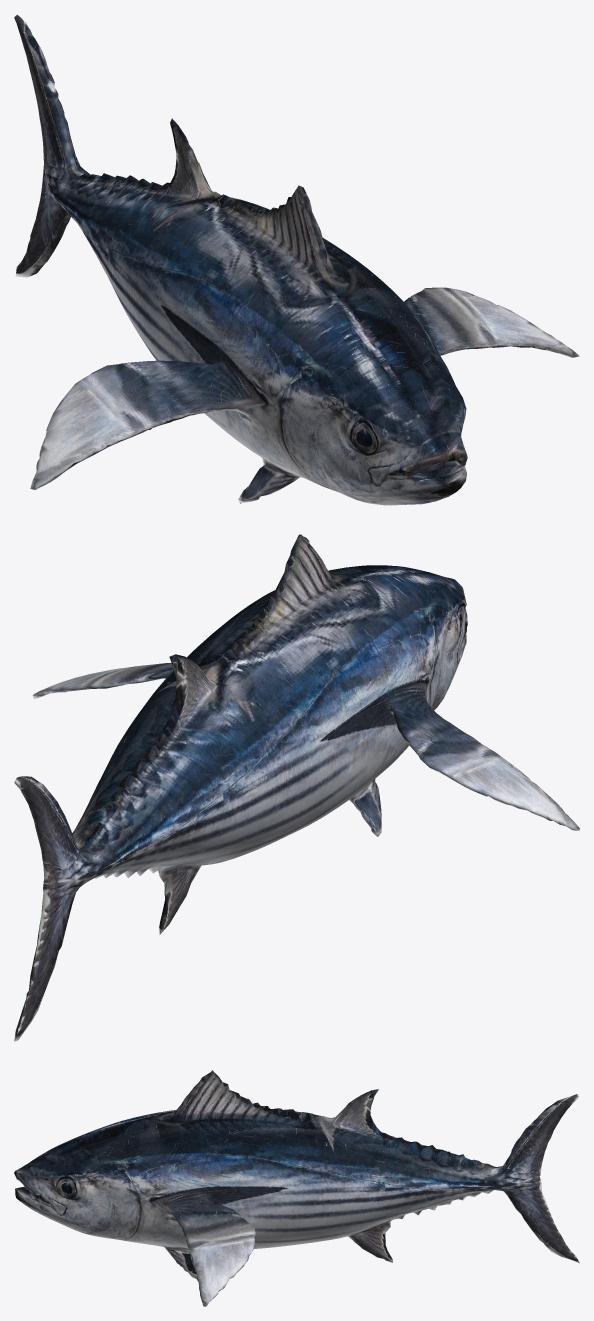
File: fish_skipjack.glb
3 views of the same model, one above another, from view 1: azimuth 30°, elevation 25°; view 2: azimuth 150°, elevation 25°; view 3: azimuth 270°, elevation 25° (orthographic). The views are drawn at different scales.
Parts seen in each view (by area): view 1: geometry_0; view 2: geometry_0; view 3: geometry_0.
Boxes of the visible parts, box(x1,y1,x2,y2) form: geometry_0: box(14, 14, 579, 505); geometry_0: box(14, 534, 579, 1041); geometry_0: box(14, 1070, 579, 1306).
Bounding box in the file's own units: 1.41 × 0.7365 × 1.96.
Materials: 1 (1 with a texture image).
